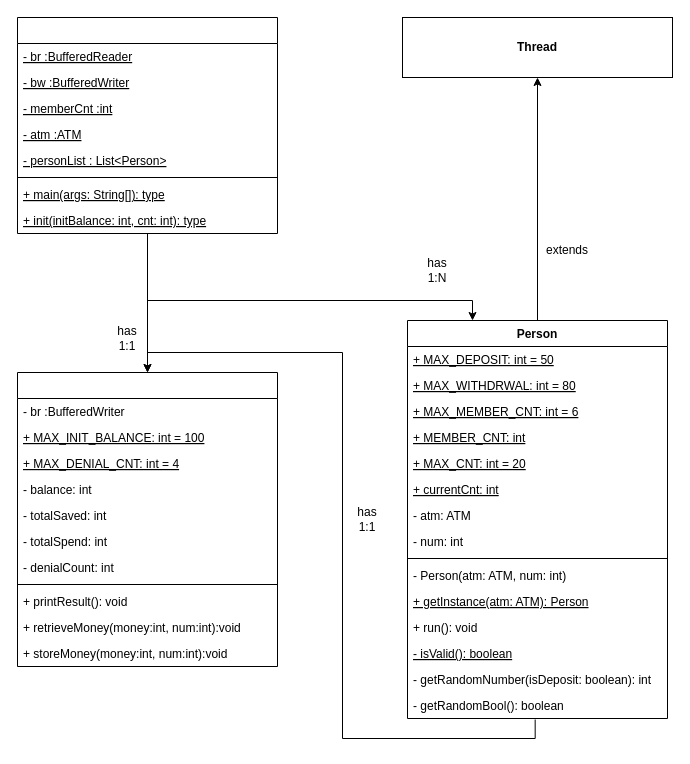
Some shapes in this 690 by 764 pixel diagram are drawn without their labels. Each missing label, with the box of its shape:
ATM: (16, 372, 278, 666)
ATMSimulator: (16, 16, 278, 234)
